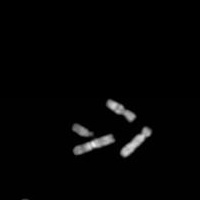chromosome: (73, 133, 115, 156), (121, 126, 153, 156), (105, 97, 136, 122), (72, 122, 94, 137), (19, 198, 32, 200)
